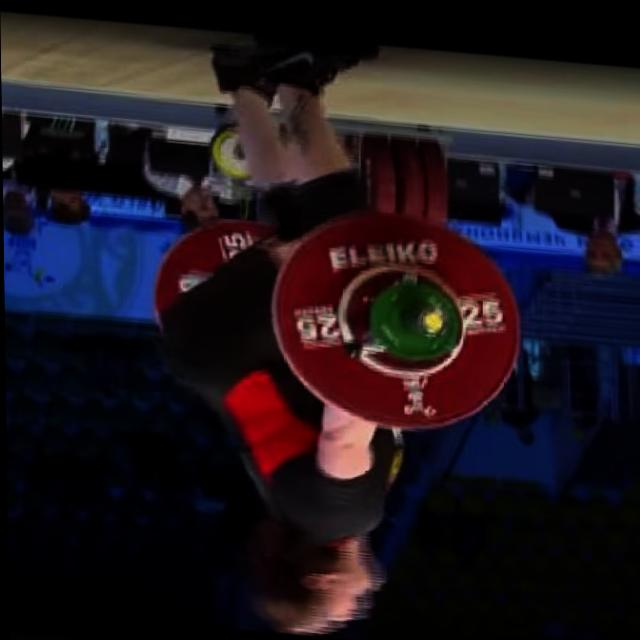barbell: (254, 185, 537, 446)
